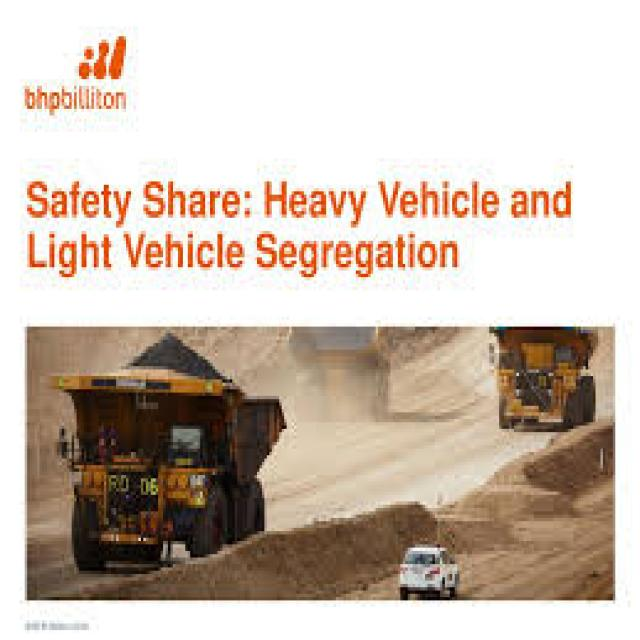dump_truck: (45, 327, 294, 580), (477, 320, 613, 449), (276, 324, 408, 436)
light_vehicle: (383, 518, 465, 587)
